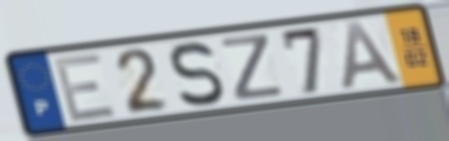2: (113, 46, 172, 117)
7: (277, 27, 327, 97)
A: (340, 19, 408, 92)
E: (50, 50, 120, 124)
S: (168, 39, 227, 109)
Z: (217, 32, 287, 104)
